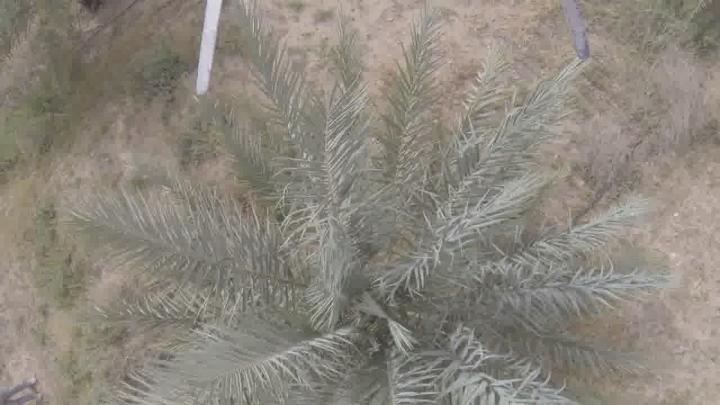Date-Palm-Crown: (218, 165, 538, 405)
